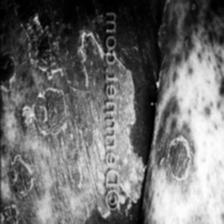Non-Cancerous Skin Condition: (119, 0, 224, 224), (0, 0, 102, 224)
